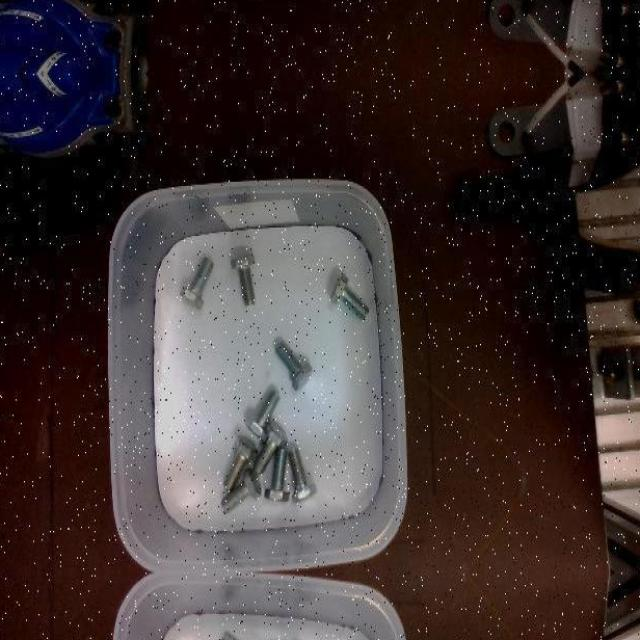screw: (224, 434, 259, 492), (221, 465, 262, 513), (274, 342, 313, 392), (253, 421, 289, 475), (244, 390, 281, 442), (330, 273, 370, 321), (180, 257, 214, 309), (289, 447, 318, 502), (264, 447, 290, 502), (230, 255, 256, 306), (223, 631, 263, 640)
